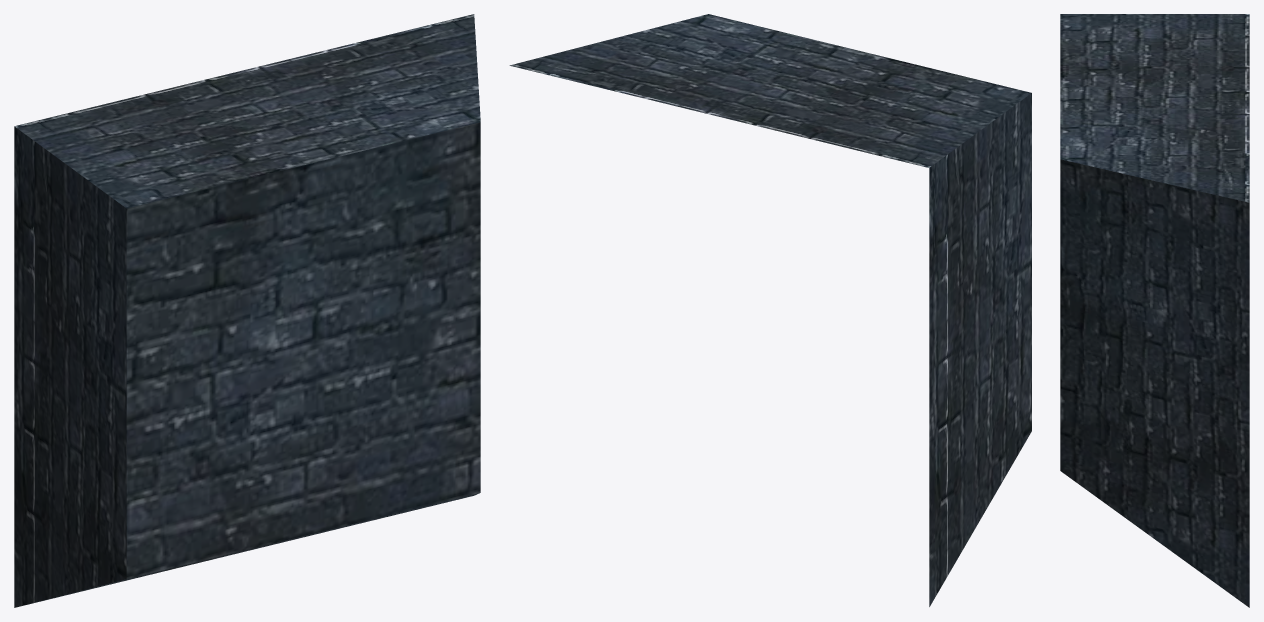
3 views of the same model, side by side, from view 1: azimuth 30°, elevation 25°; view 2: azimuth 150°, elevation 25°; view 3: azimuth 270°, elevation 25° (orthographic). The views are drawn at different scales.
Parts seen in each view (by area): view 1: model_Object20; view 2: model_Object20; view 3: model_Object20.
Boxes of the visible parts, x1=… form: model_Object20: x1=14, y1=14, x2=480, y2=607; model_Object20: x1=509, y1=14, x2=1031, y2=606; model_Object20: x1=1060, y1=14, x2=1249, y2=607.
Bounding box in the file's own units: 2.6 × 2.6 × 1.1.
Materials: 1 (1 with a texture image).
